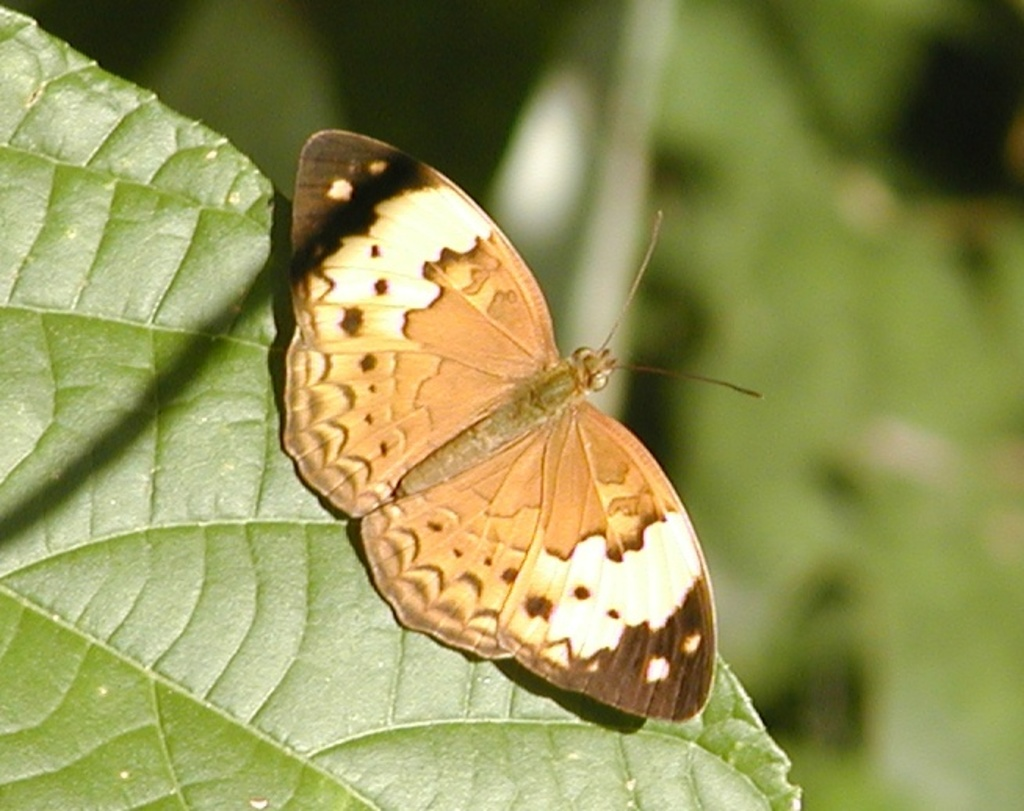Butterfly: (270, 128, 723, 725)
